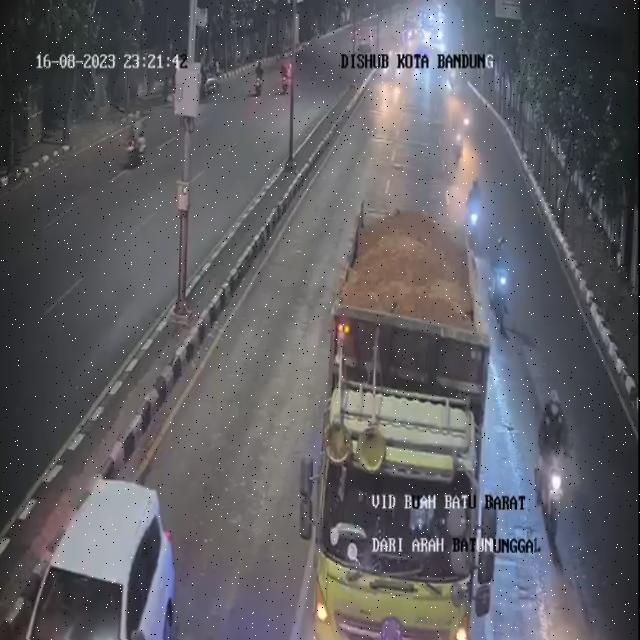cars: (27, 478, 174, 640)
motorcycle: (536, 391, 569, 564), (490, 236, 510, 332), (468, 179, 481, 248), (452, 113, 463, 165)
truck: (313, 204, 492, 639)
